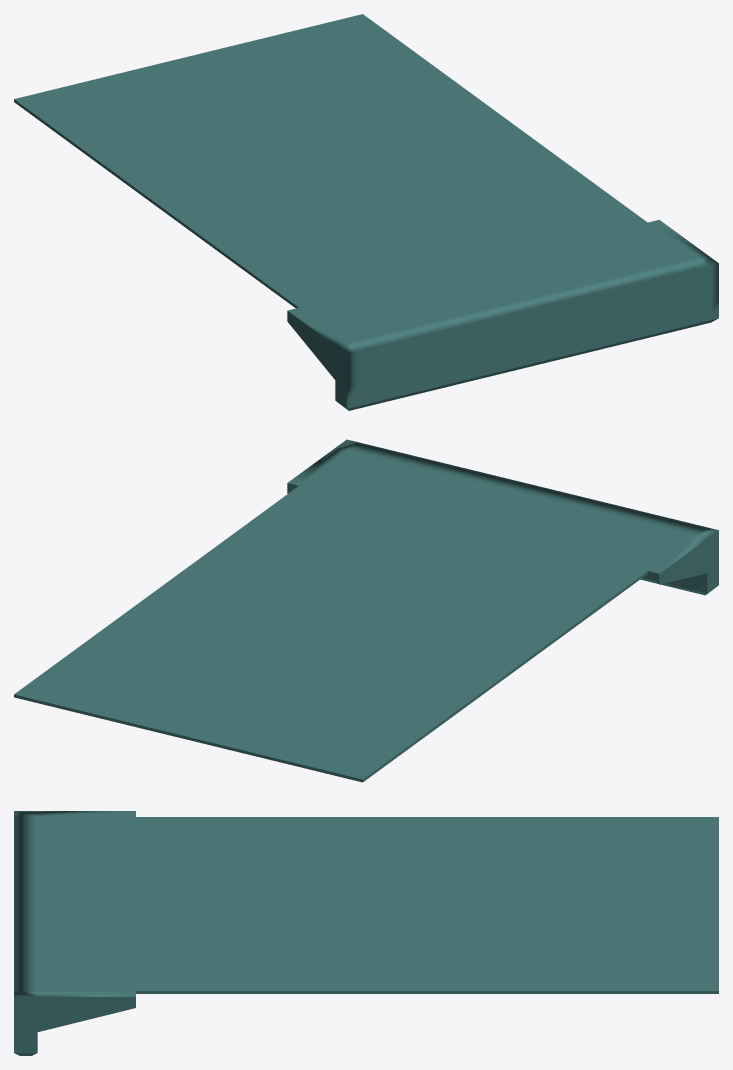
Rendered from ceiling.fbx.
The picture shows the model from 3 angles, top to bottom: view 1: azimuth 30°, elevation 25°; view 2: azimuth 150°, elevation 25°; view 3: azimuth 270°, elevation 25°; orthographic projection. The views are drawn at different scales.
Visible parts, largest first — view 1: Ceiling; view 2: Ceiling; view 3: Ceiling.
Part boxes in pixels (<box>): Ceiling: <box>14,14,718,410</box>; Ceiling: <box>14,439,718,782</box>; Ceiling: <box>14,811,718,1055</box>.
Bounding box in the file's own units: 400 × 61.72 × 641.
